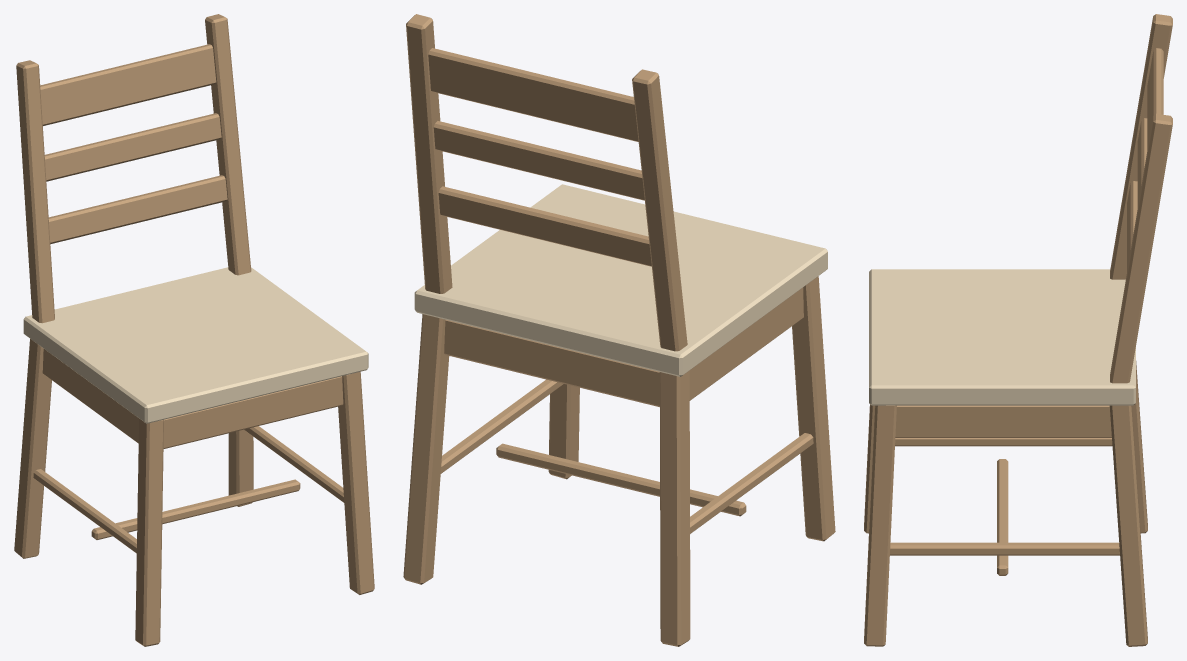
The model's file is chair-Bm7WRpDv.glb.
The picture shows the model from 3 angles, left to right: view 1: azimuth 30°, elevation 25°; view 2: azimuth 150°, elevation 25°; view 3: azimuth 270°, elevation 25°; orthographic projection. The views are drawn at different scales.
Visible parts, largest first — view 1: chair; view 2: chair; view 3: chair.
Part boxes in pixels (box(x1,y1,x2,y2)): chair: box(14, 14, 374, 646); chair: box(403, 14, 835, 646); chair: box(864, 14, 1172, 646).
Bounding box in the file's own units: 0.4557 × 0.9033 × 0.4857.
